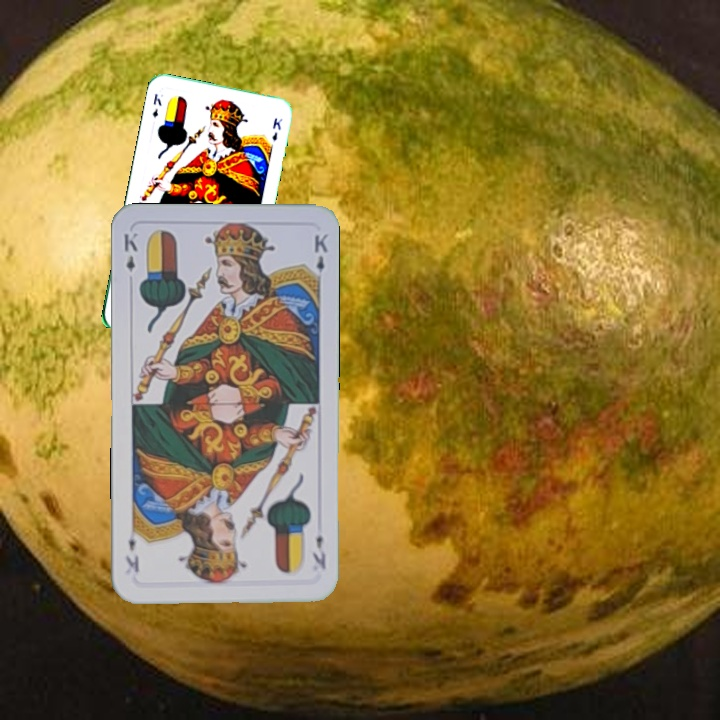EK: (120, 228, 140, 274), (308, 531, 328, 572), (148, 89, 164, 119)
